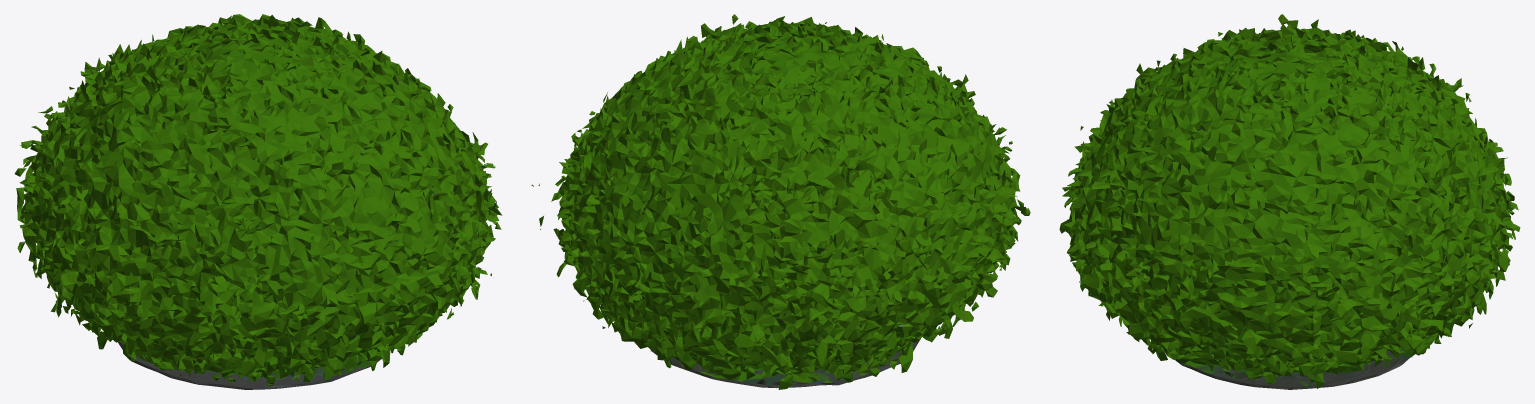
The model's file is bush.glb.
The picture shows the model from 3 angles, left to right: view 1: azimuth 30°, elevation 25°; view 2: azimuth 150°, elevation 25°; view 3: azimuth 270°, elevation 25°; orthographic projection. The views are drawn at different scales.
Visible parts, largest first — view 1: textured_mesh.obj; view 2: textured_mesh.obj; view 3: textured_mesh.obj.
Part boxes in pixels (x1,y1,x2,y2): textured_mesh.obj: (14, 14, 502, 389); textured_mesh.obj: (531, 14, 1030, 389); textured_mesh.obj: (1059, 14, 1520, 389).
Size of the model in its own units: 1.98 by 1.31 by 1.98.
1 material, 1 textured.
